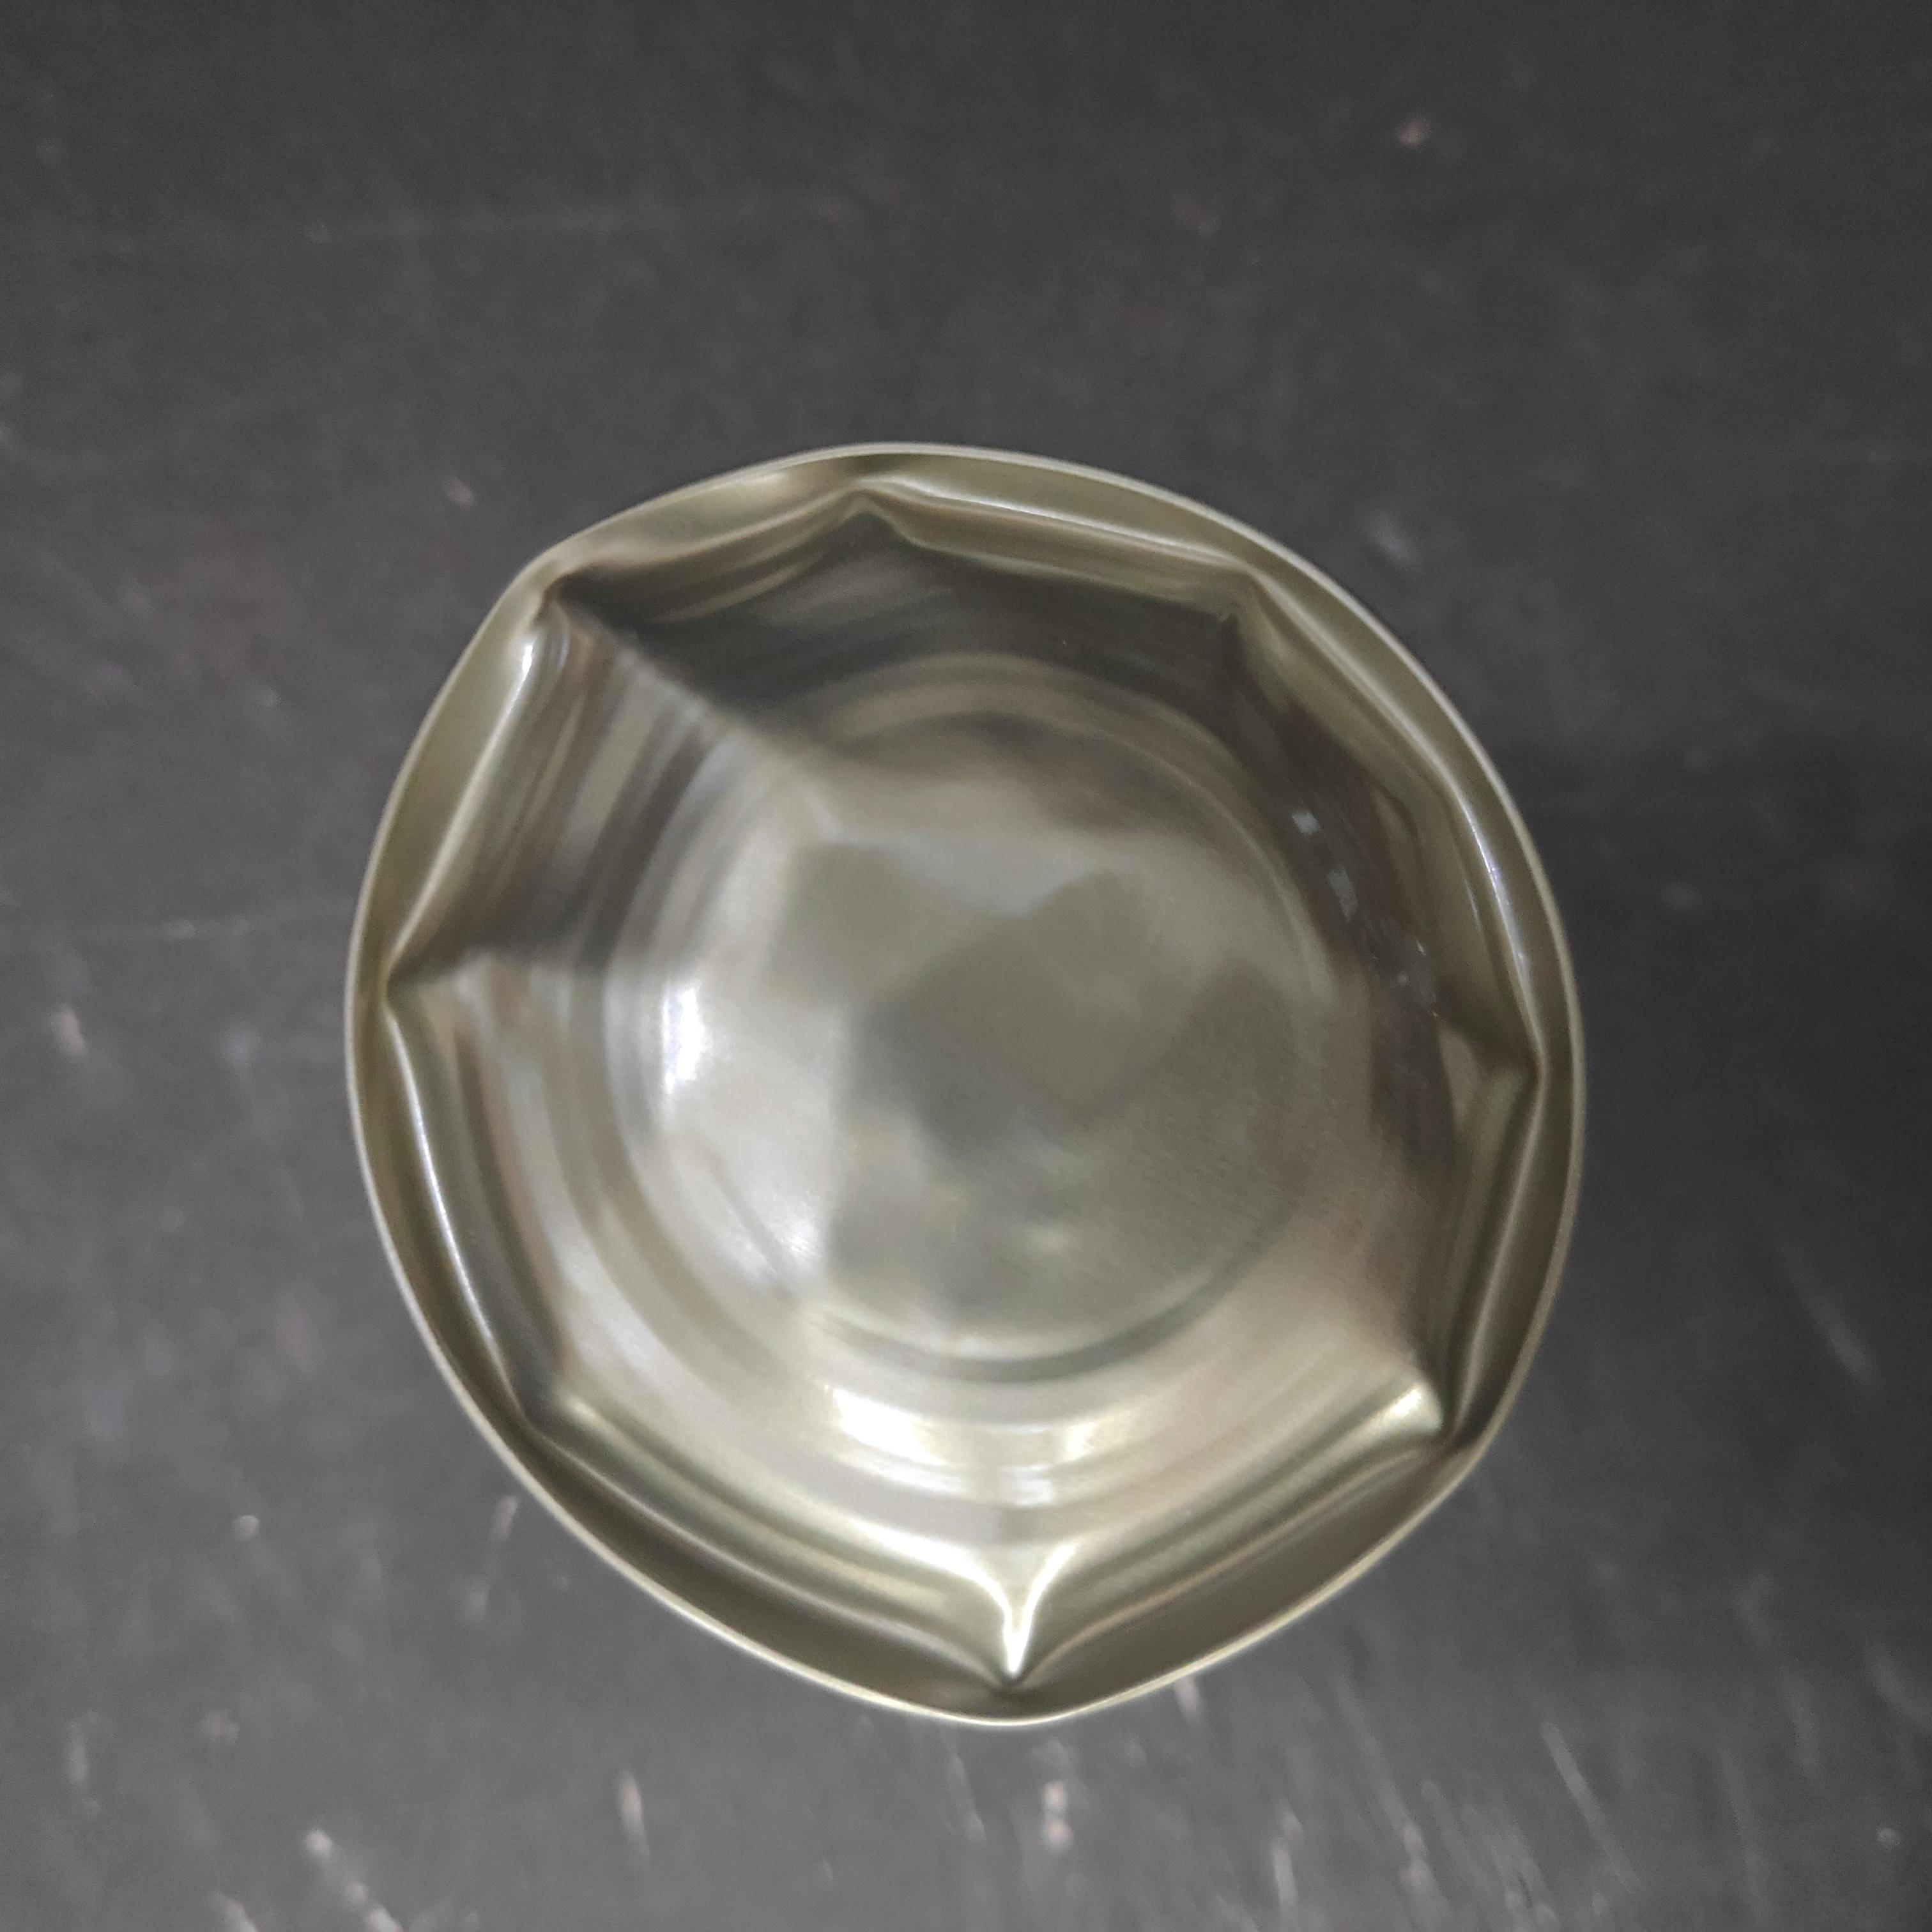Critical Defect: (186, 320, 1509, 1606)
